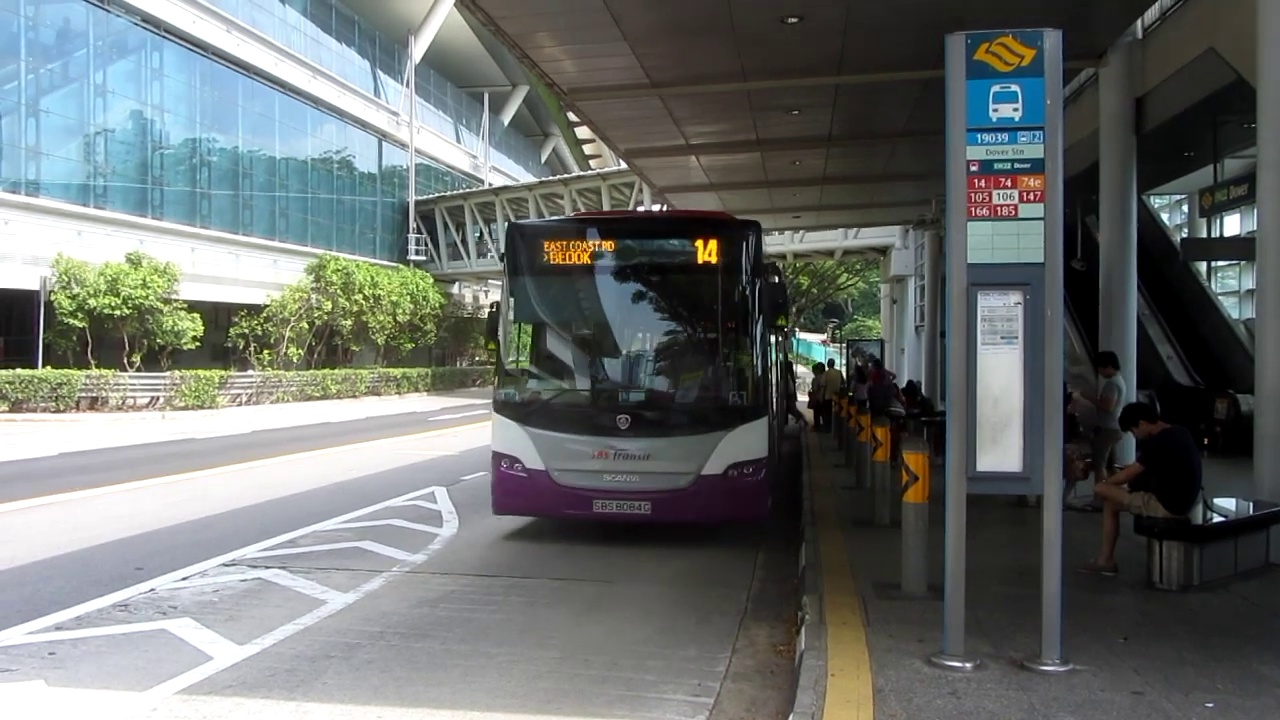bus panel: (539, 236, 723, 268)
